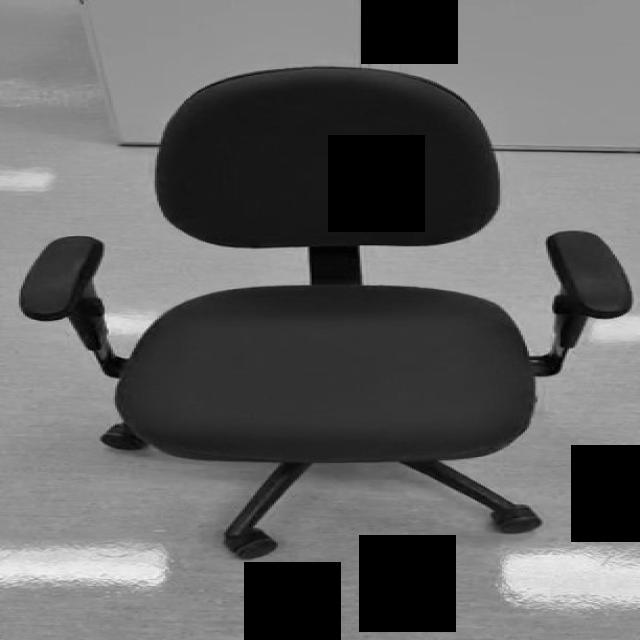chair: (20, 65, 636, 559)
